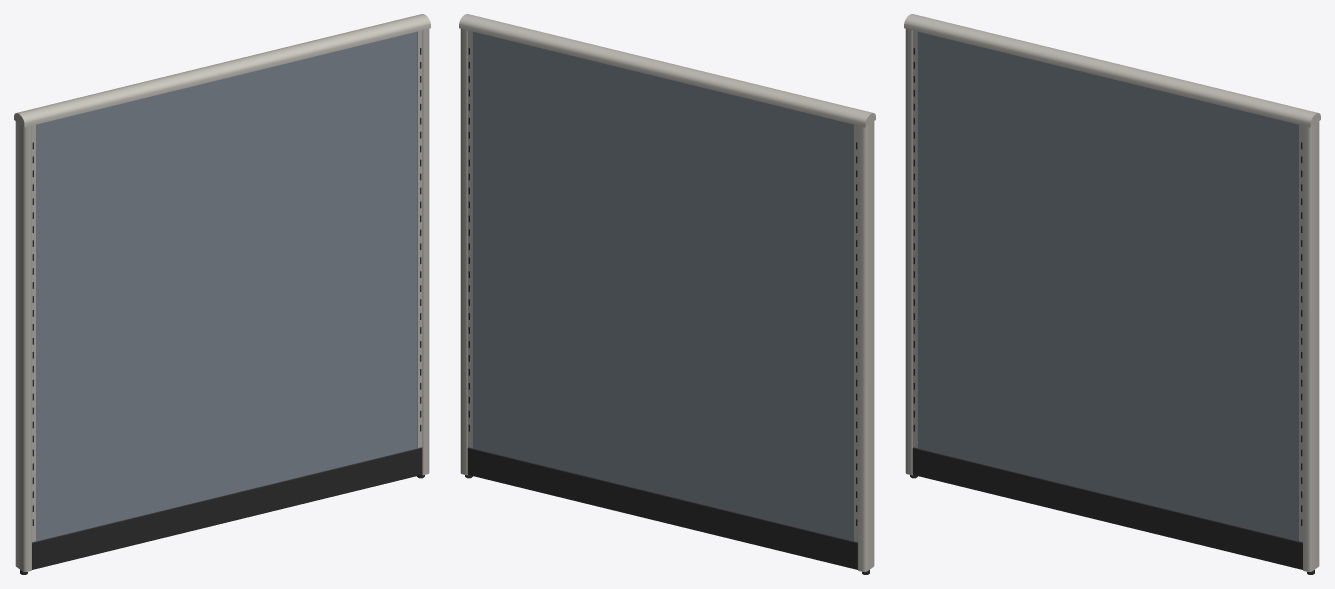
The model's file is Kit_CubiclePanelTall.fbx.
3 views of the same model, side by side, from view 1: azimuth 30°, elevation 25°; view 2: azimuth 150°, elevation 25°; view 3: azimuth 330°, elevation 25° (orthographic).
Visible parts, largest first — view 1: Kit_CubiclePanelTall_LOD0; view 2: Kit_CubiclePanelTall_LOD0; view 3: Kit_CubiclePanelTall_LOD0.
Part boxes in pixels (x1,y1,x2,y2): Kit_CubiclePanelTall_LOD0: (14,14,430,574); Kit_CubiclePanelTall_LOD0: (459,14,875,574); Kit_CubiclePanelTall_LOD0: (904,14,1320,574).
Size of what is drawn, in the model's own units: 1.52 by 1.65 by 0.067.
